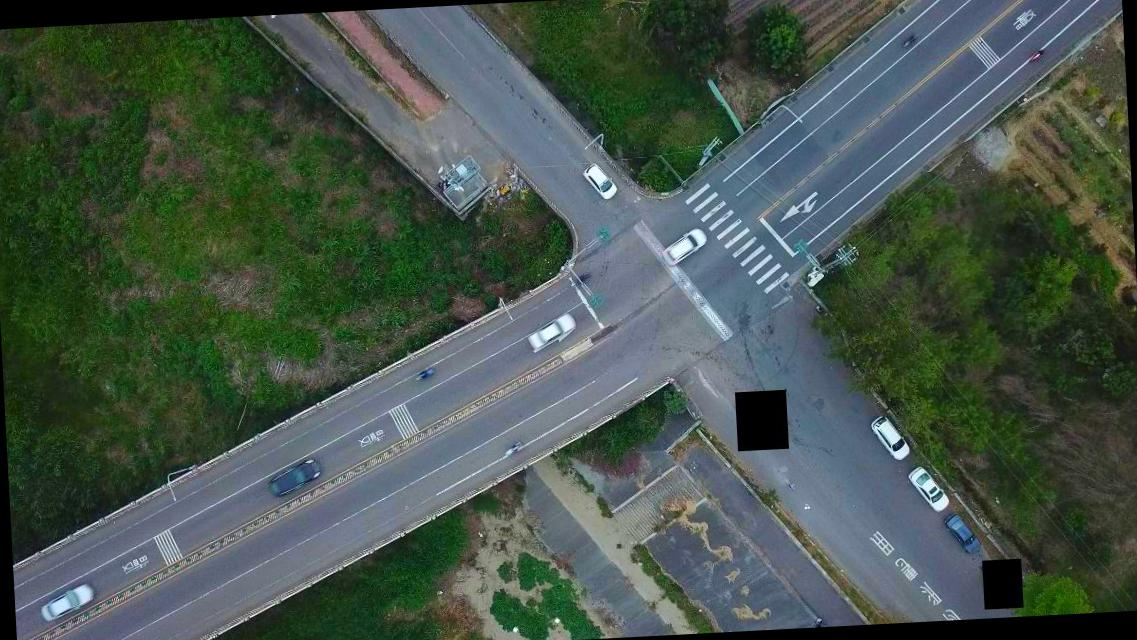vehicle: (524, 308, 578, 356), (38, 582, 95, 626), (263, 456, 322, 497), (660, 226, 712, 268), (906, 466, 951, 514), (868, 414, 910, 464), (942, 512, 981, 556), (582, 161, 618, 200)
